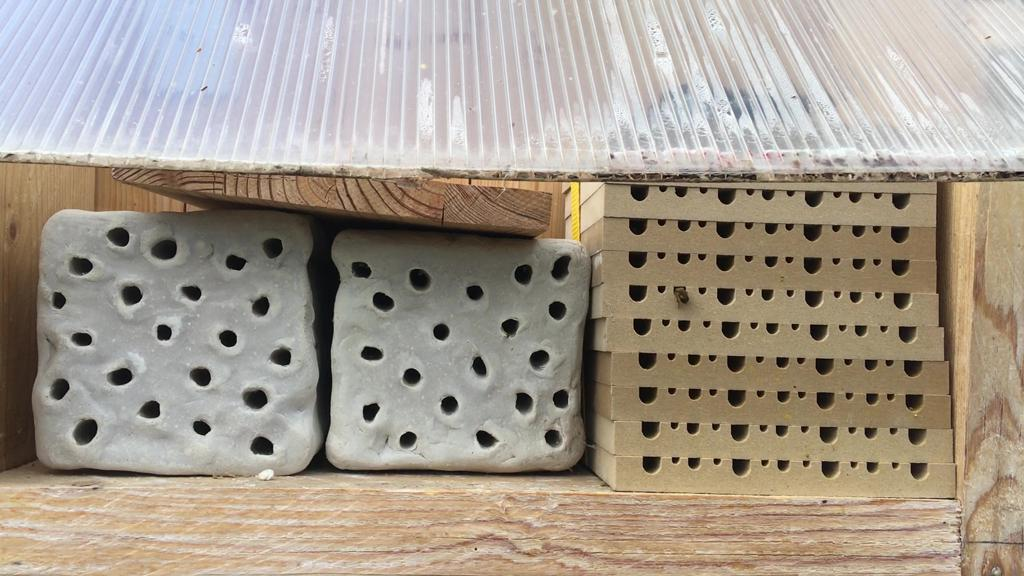bee: (668, 280, 693, 313)
